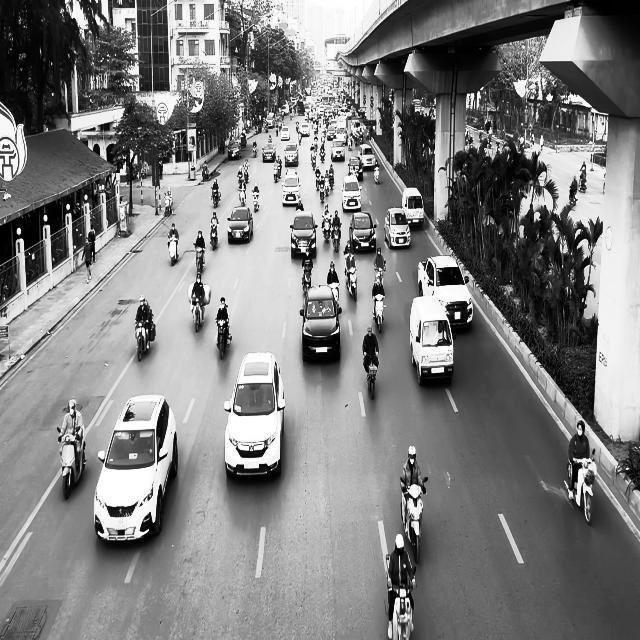car: (94, 394, 178, 543), (223, 351, 286, 479), (418, 255, 473, 332), (409, 295, 454, 386), (299, 284, 342, 362), (290, 210, 318, 258), (384, 207, 411, 249), (349, 212, 377, 252), (227, 206, 253, 243), (341, 175, 362, 211), (282, 169, 301, 206), (284, 143, 299, 166), (228, 140, 242, 160), (262, 143, 276, 162)
motorbike: (385, 554, 416, 640), (564, 449, 596, 525), (400, 477, 428, 563), (56, 426, 86, 500), (134, 316, 156, 362), (363, 352, 379, 399), (215, 318, 232, 359), (190, 295, 204, 333), (372, 294, 385, 332), (344, 266, 357, 302), (301, 259, 313, 294), (193, 242, 205, 274), (168, 236, 178, 266), (374, 260, 385, 287), (331, 224, 341, 252), (210, 223, 218, 250), (568, 184, 578, 205), (164, 194, 173, 217), (211, 188, 221, 208), (578, 172, 587, 192), (252, 190, 260, 212), (374, 165, 379, 184), (202, 168, 209, 181)
